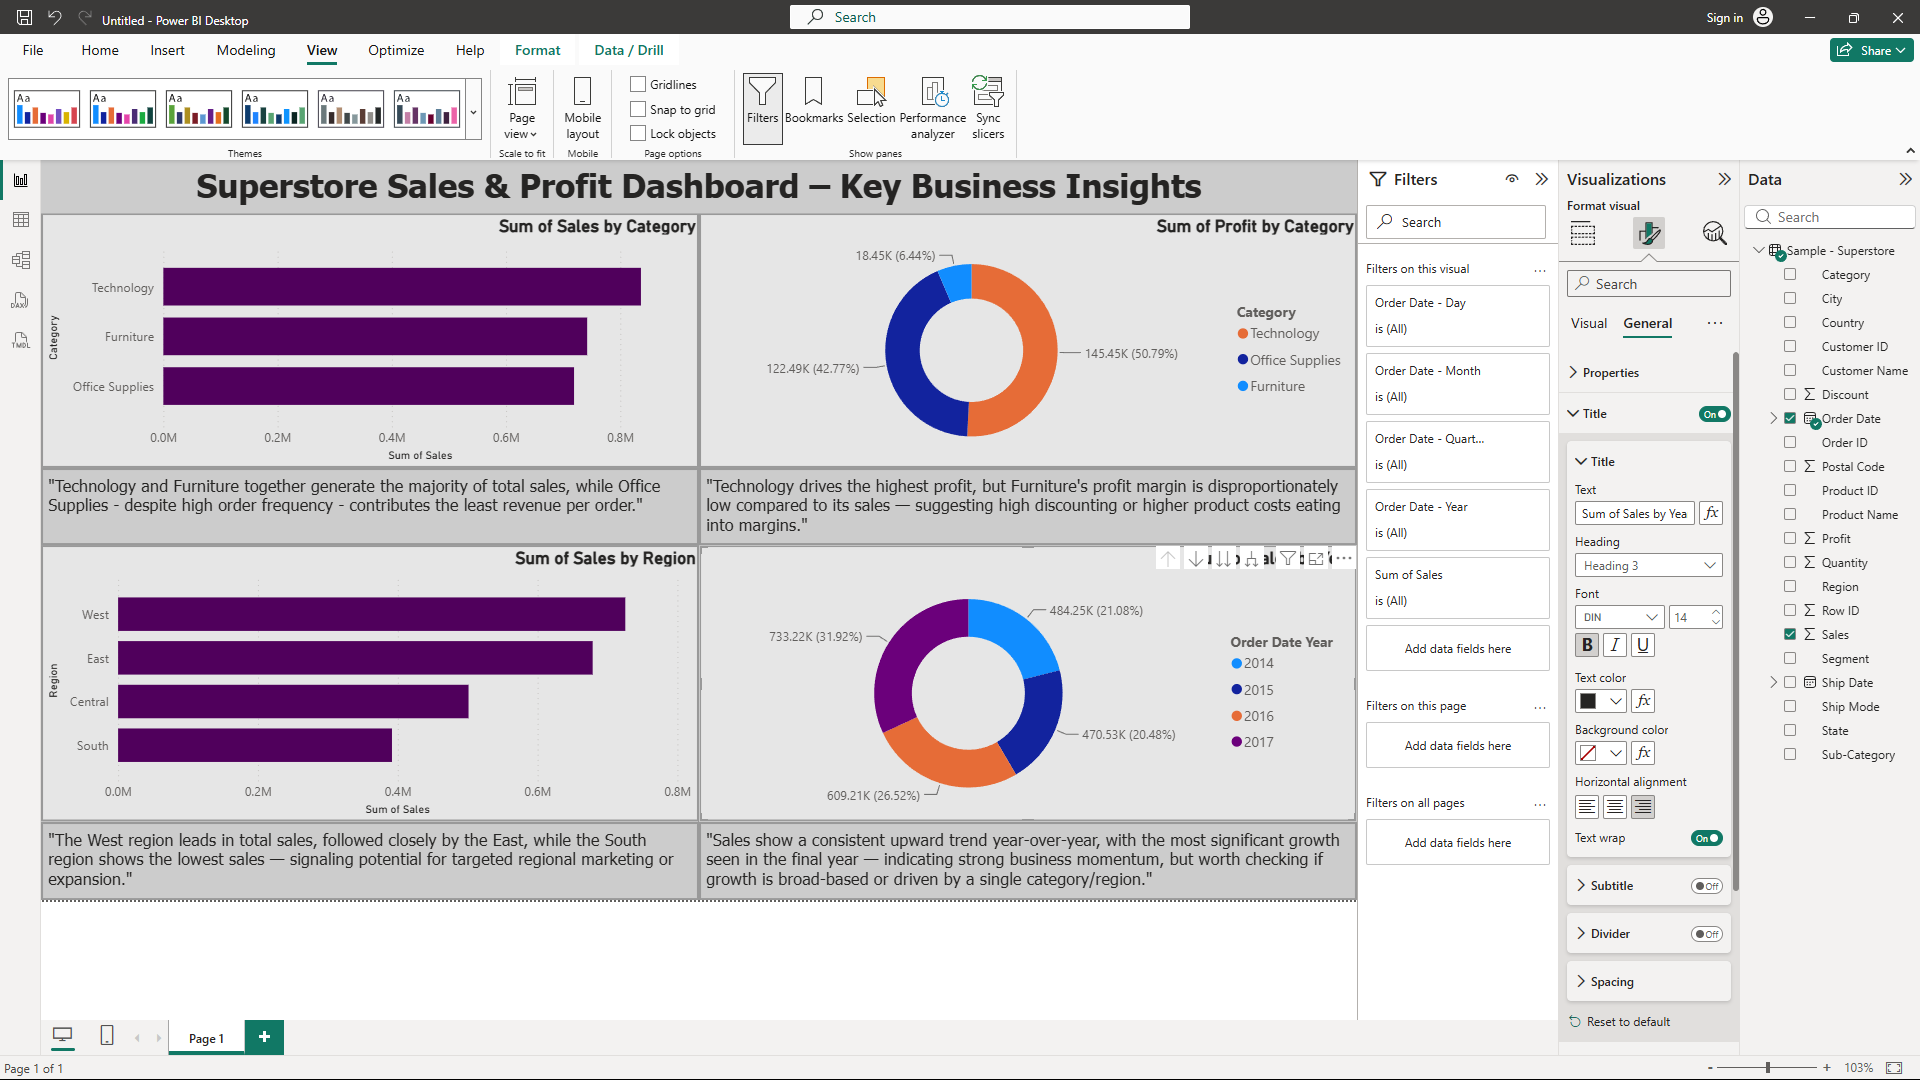

The page's visual inventory and layout, read from the dashboard file:
{"tool":"powerbi","page":{"name":"Page 1","canvas":[1280,720],"ordinal":0},"visuals":[{"type":"clusteredBarChart","fields":{"Category":["Sample - Superstore.Category"],"Y":["Sum(Sample - Superstore.Sales)"]},"box":[0,51.6,640,248],"z":0},{"type":"barChart","fields":{"Category":["Sample - Superstore.Region"],"Y":["Sum(Sample - Superstore.Sales)"]},"box":[0,374.5,640,269.4],"z":1000},{"type":"donutChart","fields":{"Category":["Sample - Superstore.Category"],"Y":["Sum(Sample - Superstore.Profit)"]},"box":[640,51.6,640,248],"z":2000},{"type":"donutChart","fields":{"Category":["Sample - Superstore.Order Date.Variation.Date Hierarchy.Year","Sample - Superstore.Order Date.Variation.Date Hierarchy.Quarter","Sample - Superstore.Order Date.Variation.Date Hierarchy.Month","Sample - Superstore.Order Date.Variation.Date Hierarchy.Day"],"Y":["Sum(Sample - Superstore.Sales)"]},"box":[640,374.5,640,269.4],"z":3000},{"type":"textbox","box":[0,299.6,640,74.9],"z":4000},{"type":"textbox","box":[0,643.9,640,75.9],"z":5000},{"type":"textbox","box":[640,299.6,640,74.9],"z":6000},{"type":"textbox","box":[640,643.9,640,75.9],"z":6001},{"type":"textbox","box":[0,0,1280,51.6],"z":6002}]}

Visuals, with their boxes on the page's 1280x720 design canvas (x1, y1, x2, y2). These are canvas units, not pixel positions in the 1920x1080 screenshot, which may show the page scaled, cropped or inside an application window:
clusteredBarChart - Sample - Superstore.Category x Sum(Sample - Superstore.Sales): 0,52,640,300
barChart - Sample - Superstore.Region x Sum(Sample - Superstore.Sales): 0,374,640,644
donutChart - Sample - Superstore.Category x Sum(Sample - Superstore.Profit): 640,52,1280,300
donutChart - Sample - Superstore.Order Date.Variation.Date Hierarchy.Year x Sample - Superstore.Order Date.Variation.Date Hierarchy.Quarter: 640,374,1280,644
textbox: 0,300,640,374
textbox: 0,644,640,720
textbox: 640,300,1280,374
textbox: 640,644,1280,720
textbox: 0,0,1280,52
